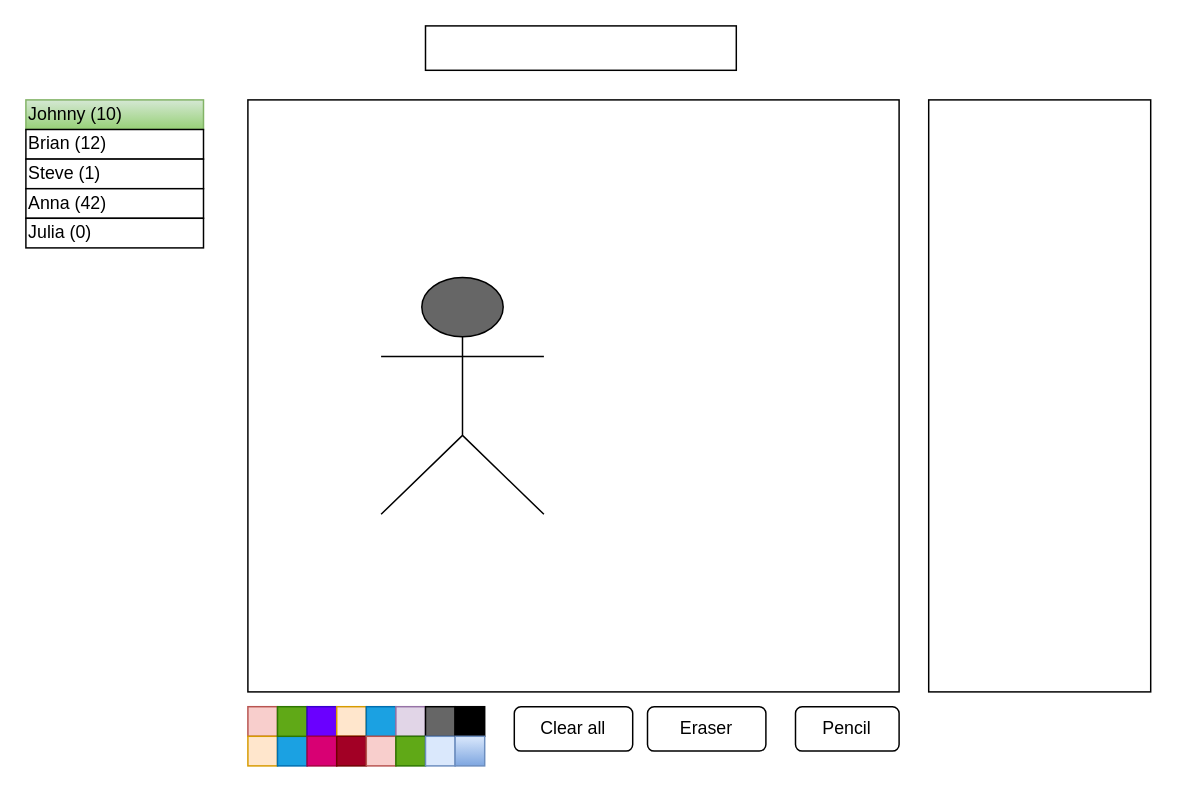
Image size: 1177x792. Some labels were removed from this diagram. The shapes that lost their labels are listed below. From the top down, each one's centre as x and y in pixels, then its label:
At (580,47): "Person".
At (1039,395): "Johnny: stick figure Alex: people Julia guessed the word".
